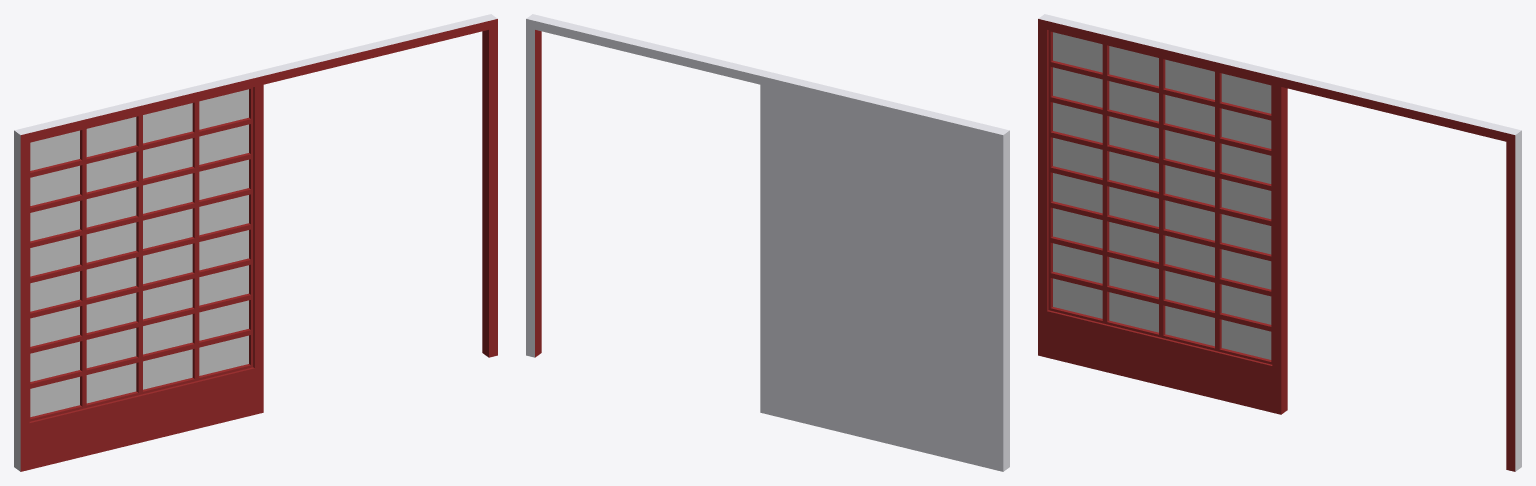
Rendered from Asian_Prop_Building_Modular_Wall_Paper_Screen_Open_01.FBX.
3 renders of one model, left to right at view 1: azimuth 30°, elevation 25°; view 2: azimuth 150°, elevation 25°; view 3: azimuth 330°, elevation 25°, orthographic.
Visible parts, largest first — view 1: Asian_Prop_Building_Modular_Wall_Paper_Screen_Open_01; view 2: Asian_Prop_Building_Modular_Wall_Paper_Screen_Open_01; view 3: Asian_Prop_Building_Modular_Wall_Paper_Screen_Open_01.
Boxes of the visible parts, x1,y1,x2,y2 form: Asian_Prop_Building_Modular_Wall_Paper_Screen_Open_01: (14, 14, 497, 471); Asian_Prop_Building_Modular_Wall_Paper_Screen_Open_01: (526, 14, 1009, 471); Asian_Prop_Building_Modular_Wall_Paper_Screen_Open_01: (1038, 14, 1521, 471).
Bounding box in the file's own units: 5167 × 3485 × 123.
